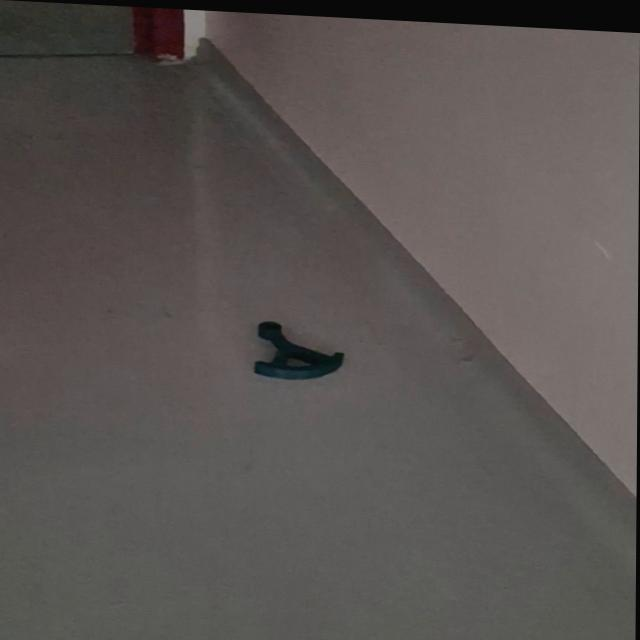haptic: (252, 319, 346, 384)
